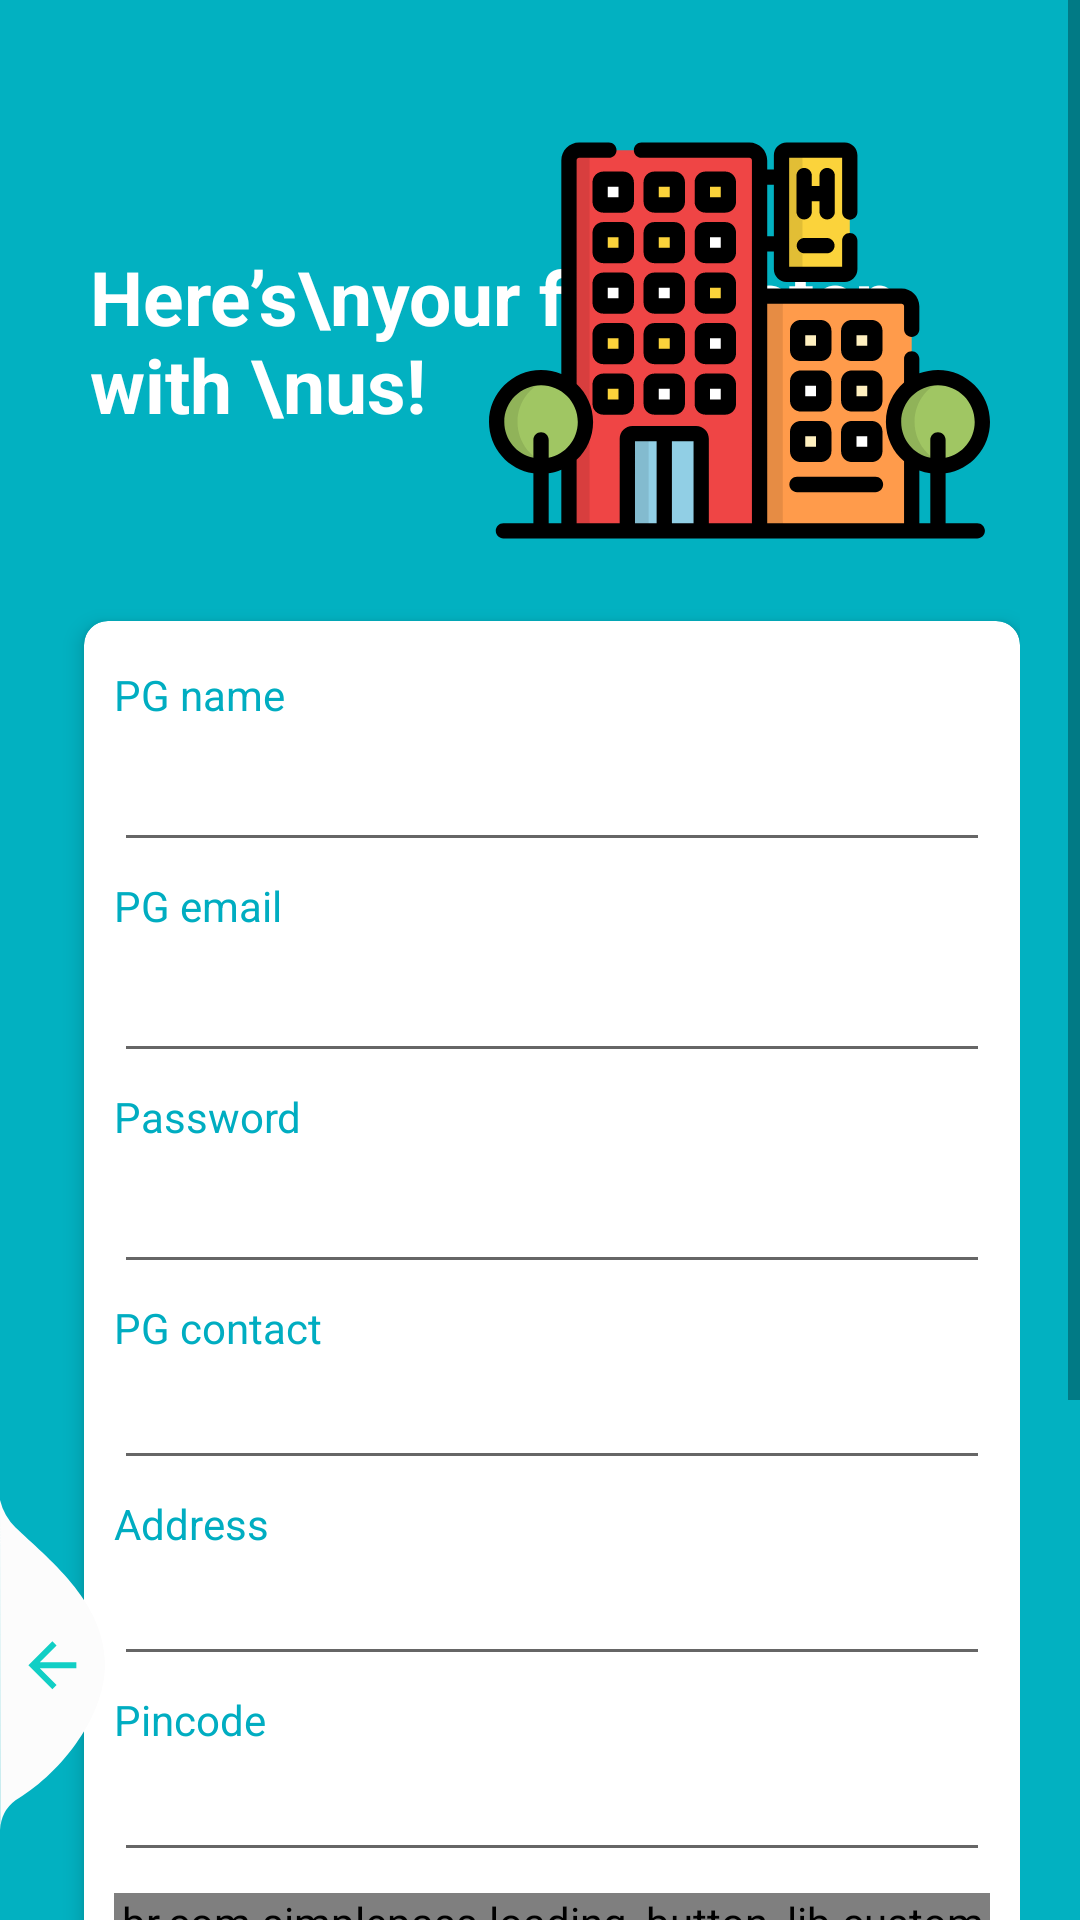

Screen size 1080x1920. Icon name, then its box in pixels as (x1, y1, x2, y2):
back: (0, 1500, 84, 1830)
